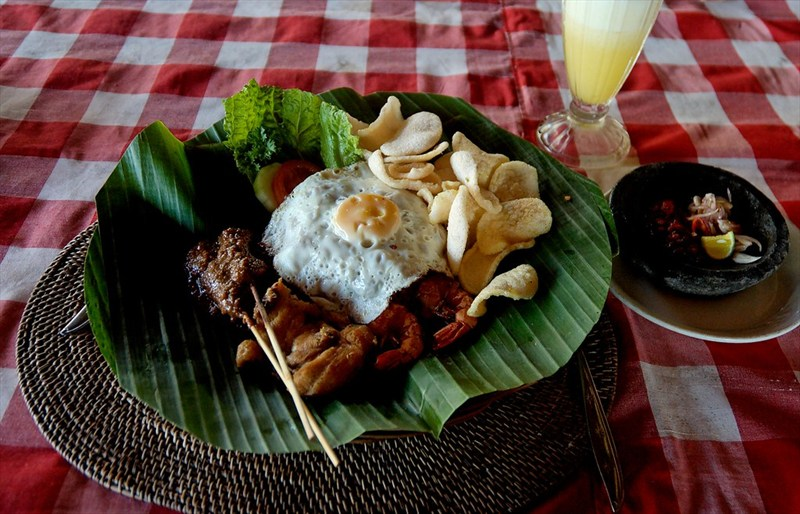Nasi Goreng: (167, 38, 658, 421)
